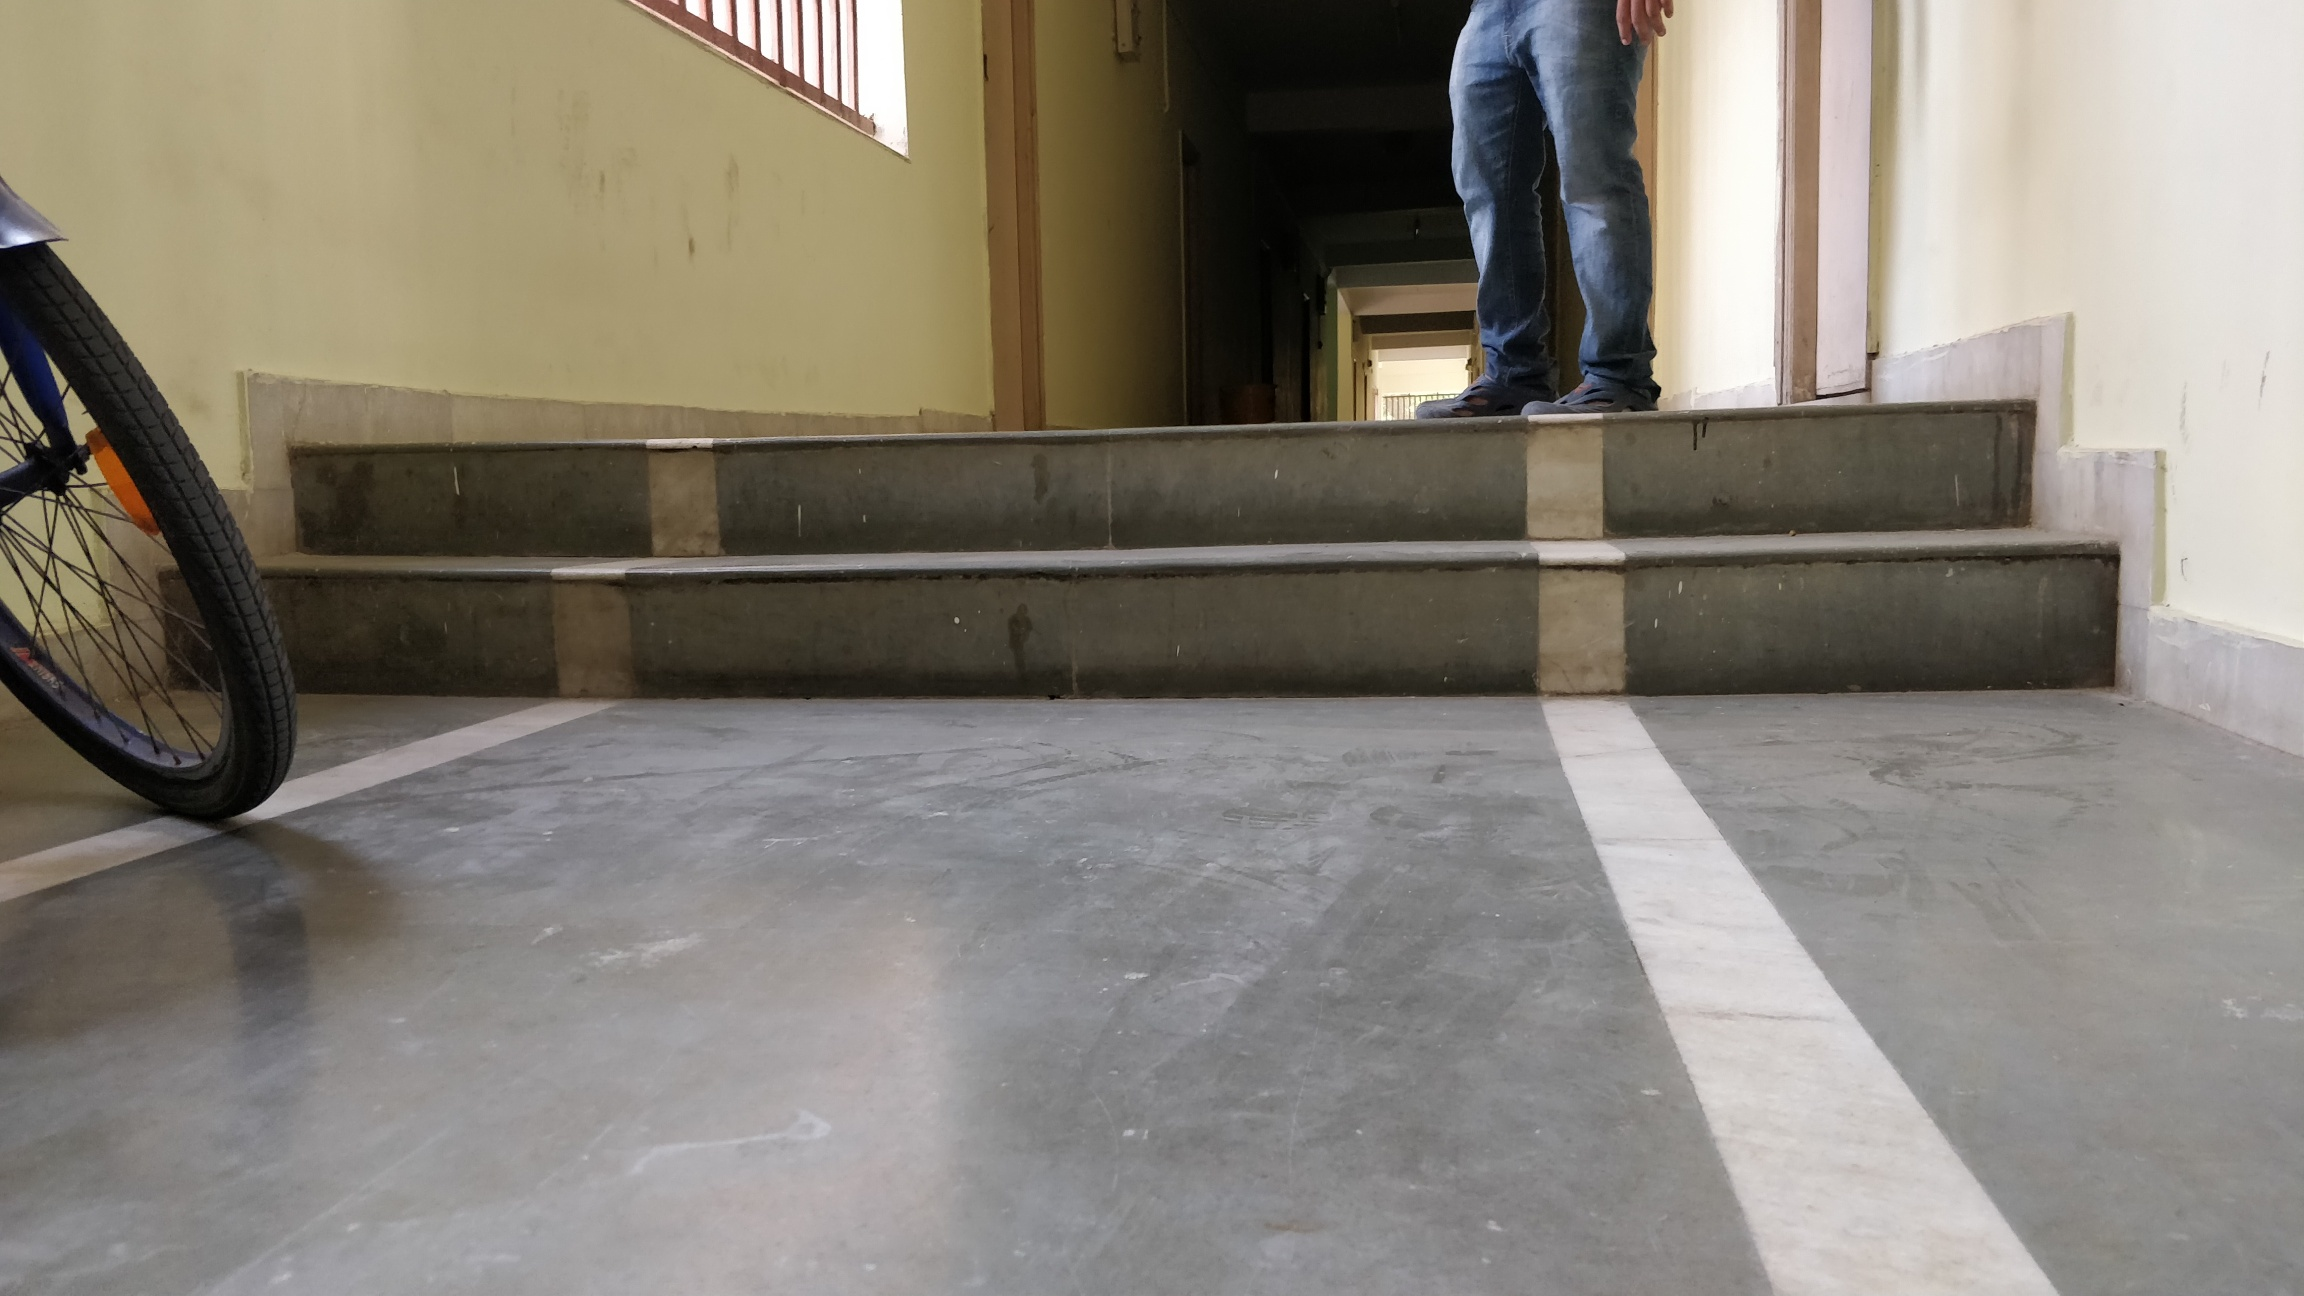stairs_up: (271, 400, 2157, 714)
